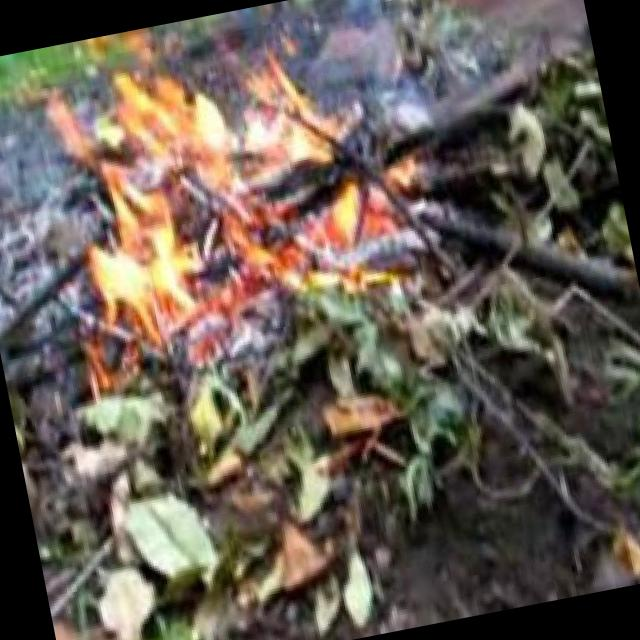Fire: (25, 8, 432, 360)
